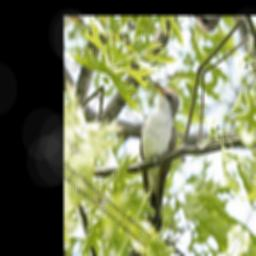Cuckoo: (103, 74, 212, 237)
